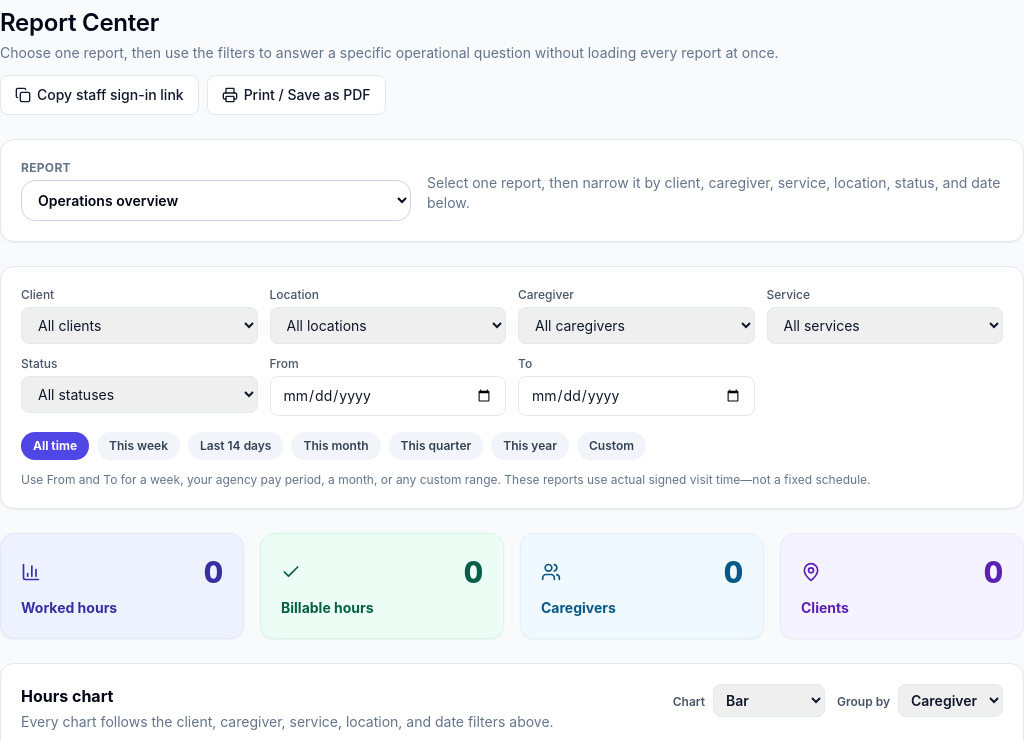
Test: ServiceVerificationReportsPage › maps each caregiver's daily worked and billable hours into the monthly calendar
This screenshot has width=1024, height=741.
Select "Client calendar" in the dropdown labelled "Report" at (216, 200), box 21,180 -> 411,221
(page scrolled)
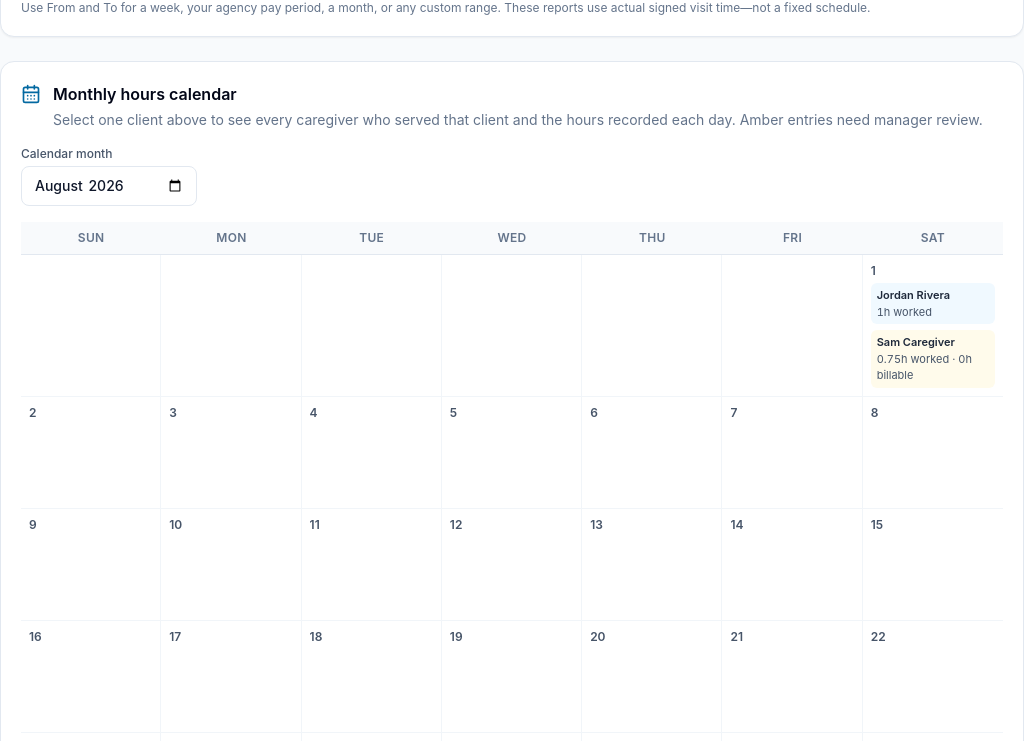
Expected: the text "Jordan Rivera" is shown, 877,288 -> 950,302
Expected: the text "1h worked" is shown, 877,304 -> 932,318
Expected: the text "Sam Caregiver" is shown, 877,335 -> 955,349
